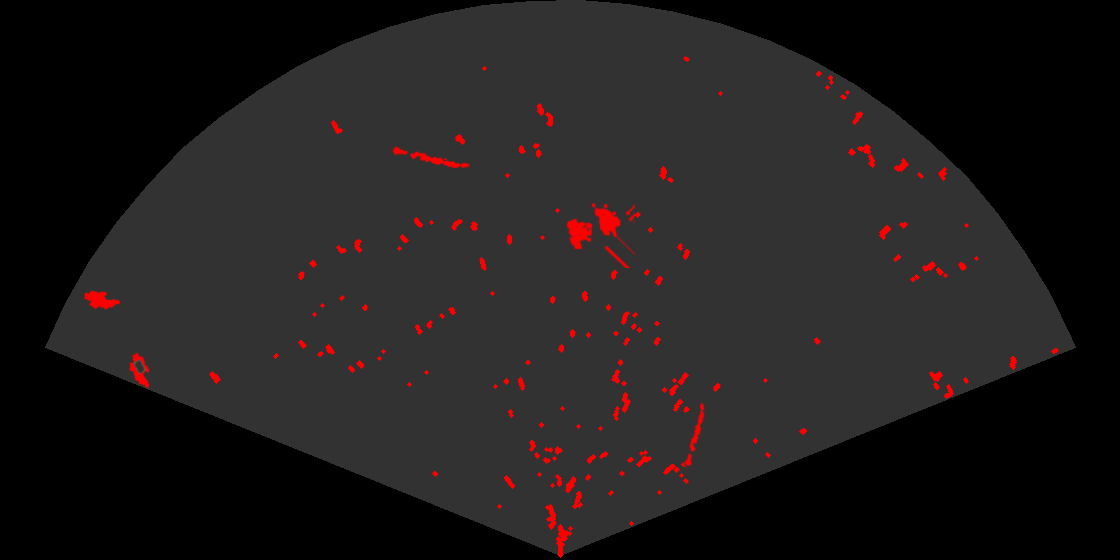AUV: (128, 351, 151, 390), (82, 289, 122, 310)
cage: (565, 201, 635, 268)
chain: (387, 145, 471, 170), (683, 400, 706, 470)
